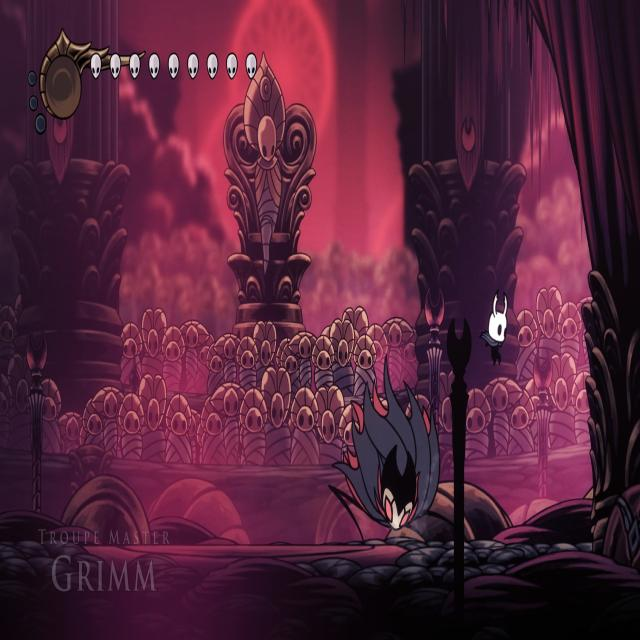Dash Uppercut: (325, 348, 445, 543)
Player: (480, 286, 510, 369)
